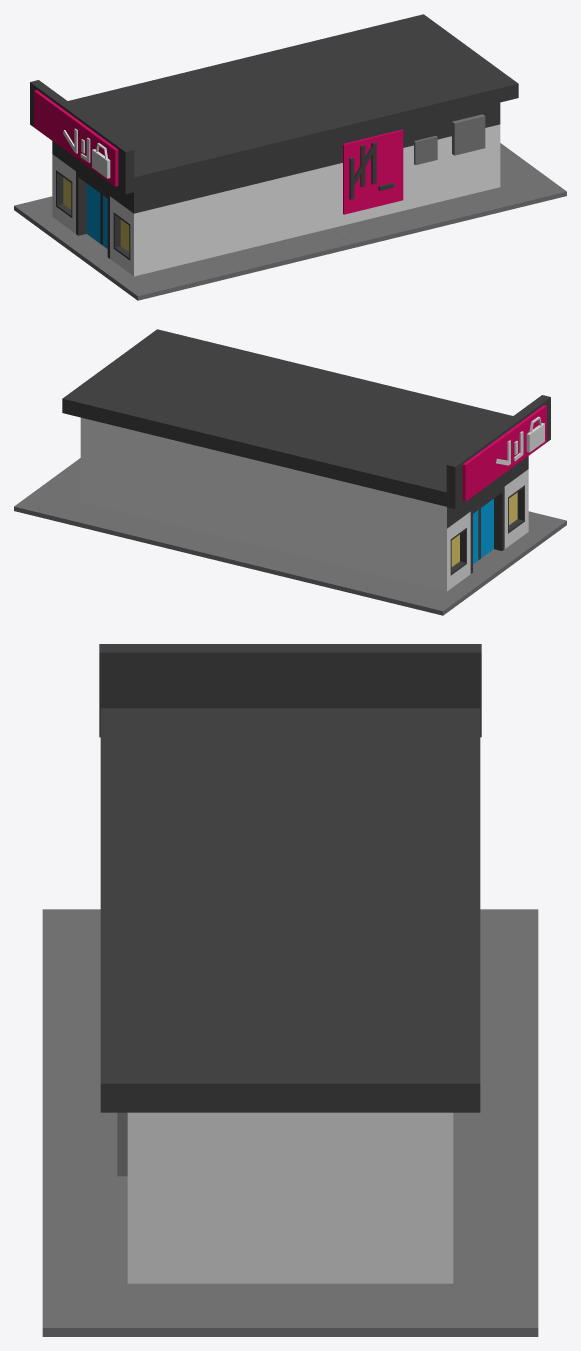
Rendered from store.fbx.
The picture shows the model from 3 angles, top to bottom: view 1: azimuth 30°, elevation 25°; view 2: azimuth 150°, elevation 25°; view 3: azimuth 270°, elevation 25°; orthographic projection. The views are drawn at different scales.
Visible parts, largest first — view 1: pCube130; view 2: pCube130; view 3: pCube130.
Boxes of the visible parts, x1,y1,x2,y2 form: pCube130: (14,14,566,300); pCube130: (14,329,566,615); pCube130: (42,644,538,1336).
Bounding box in the file's own units: 283 × 86.09 × 140.
